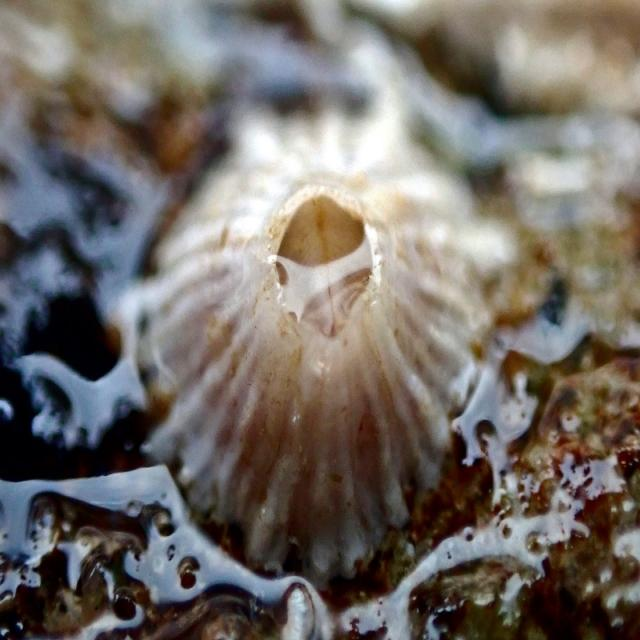barnacles: (139, 97, 497, 595)
